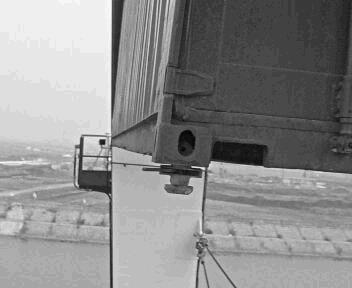twist_lock_1: (148, 161, 207, 204)
